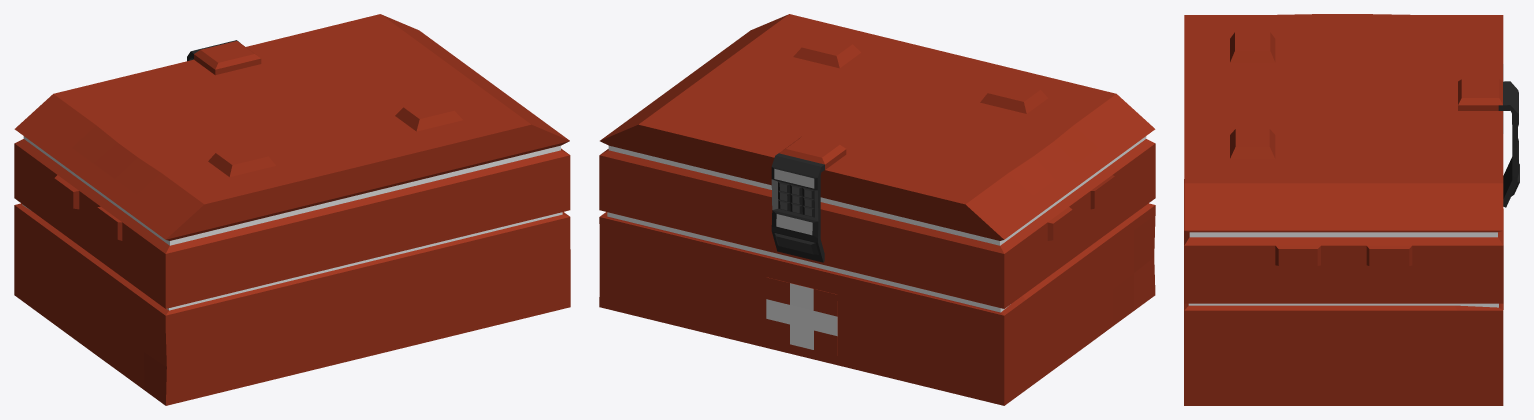
File: CajaMedica.fbx
3 renders of one model, left to right at view 1: azimuth 30°, elevation 25°; view 2: azimuth 150°, elevation 25°; view 3: azimuth 270°, elevation 25°, orthographic. The views are drawn at different scales.
Parts seen in each view (by area): view 1: Caja Medica; view 2: Caja Medica; view 3: Caja Medica.
Part boxes in pixels (x1,y1,x2,y2): Caja Medica: (14, 14, 570, 405); Caja Medica: (599, 14, 1155, 405); Caja Medica: (1184, 14, 1519, 405).
Size of the model in its own units: 150 by 70 by 100.
Materials: 1 (1 with a texture image).
